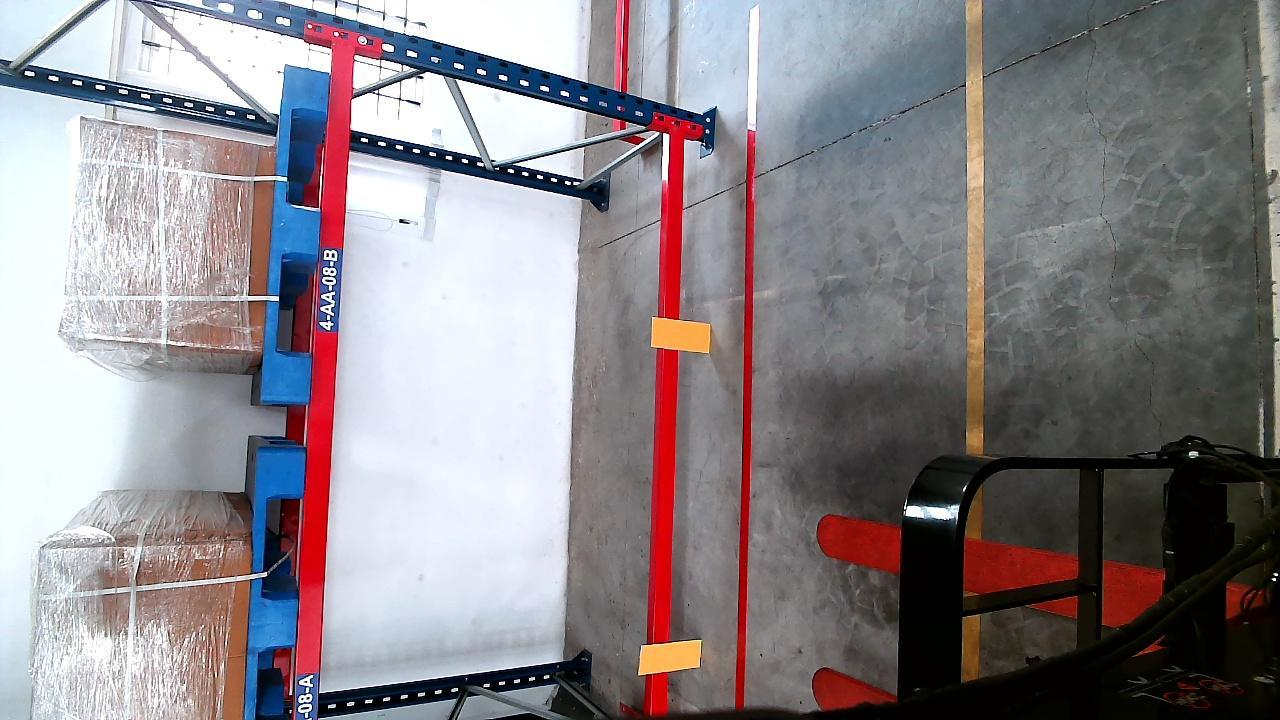red_line: (730, 125, 763, 706)
yellow_line: (965, 0, 989, 448)
